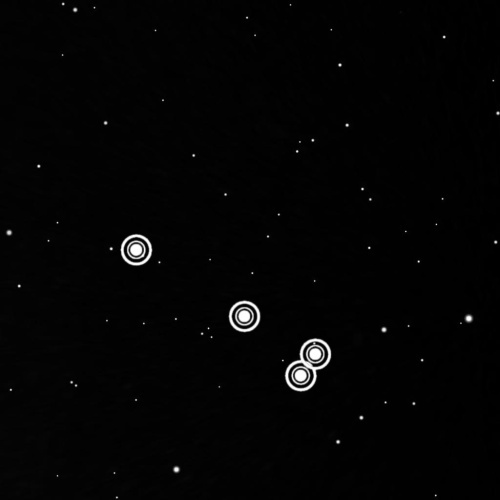sagitta: (109, 221, 339, 400)
